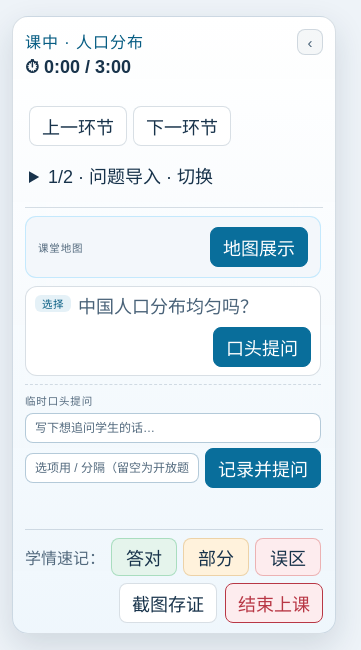
it: ClassRunPanel › expands only student-visible options without answers or teacher hints
Click the button with test id "question-toggle-s1q1": [173, 308] box [35,294,311,321]
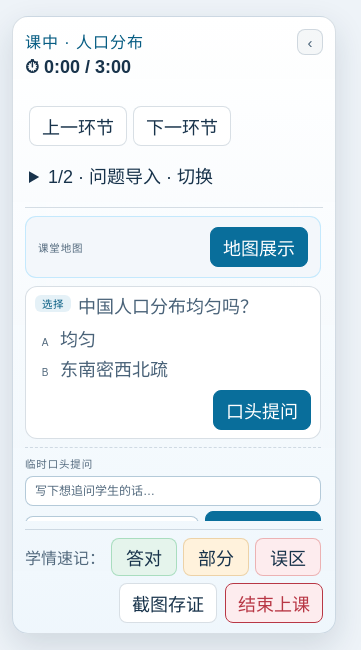
expect the text "东南密西北疏" is shown: met, box [60,357,168,384]
